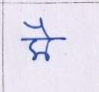au_matra: (25, 19, 54, 49)
